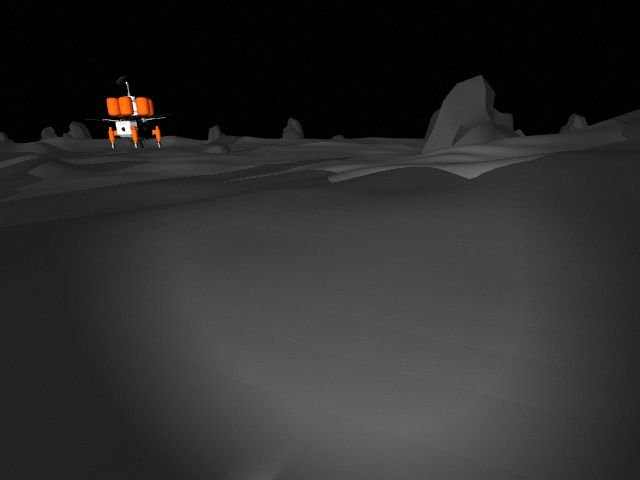homebase: (85, 73, 175, 153)
